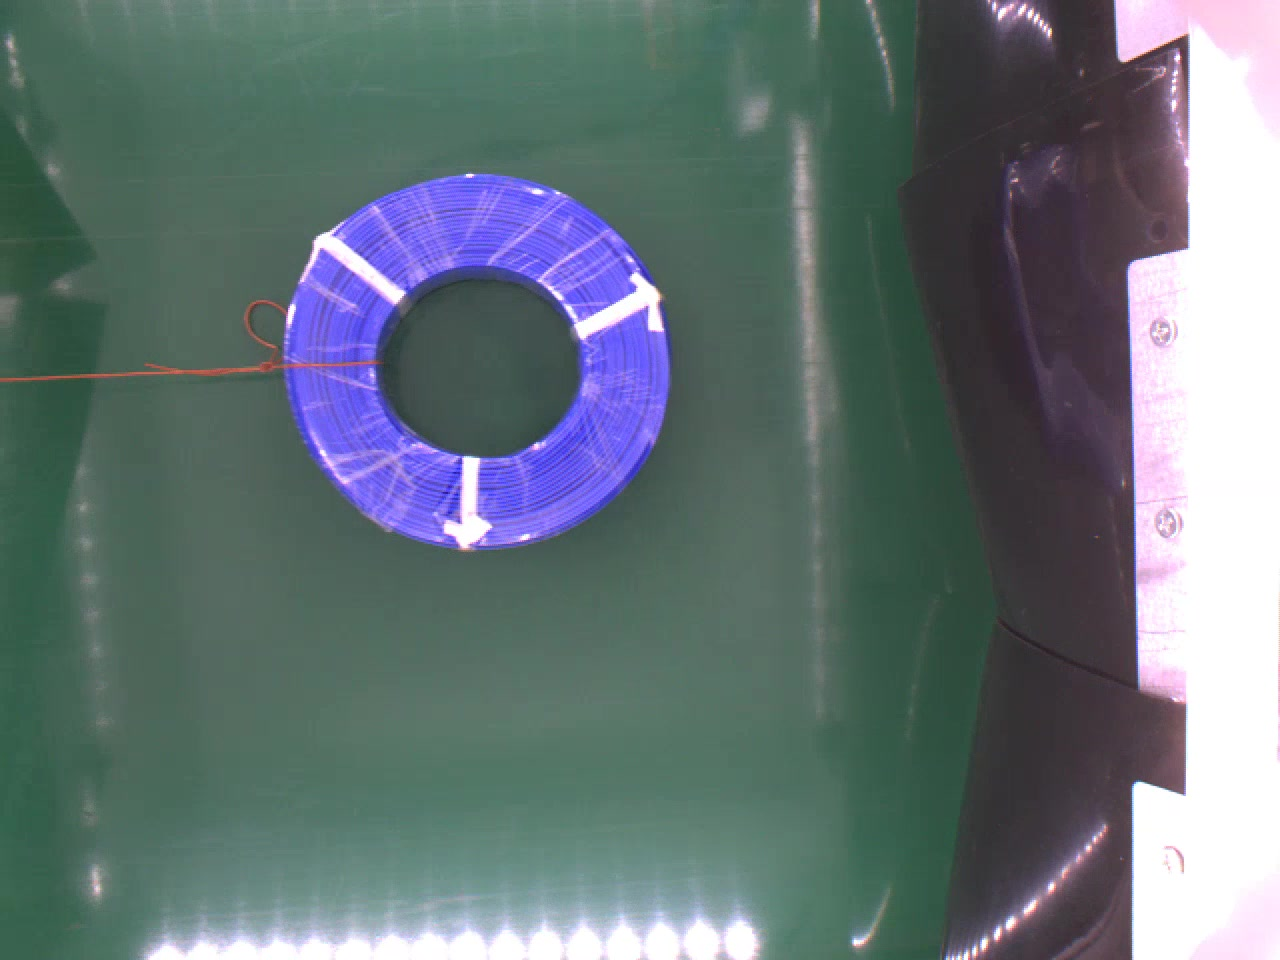blue: (283, 170, 675, 548)
